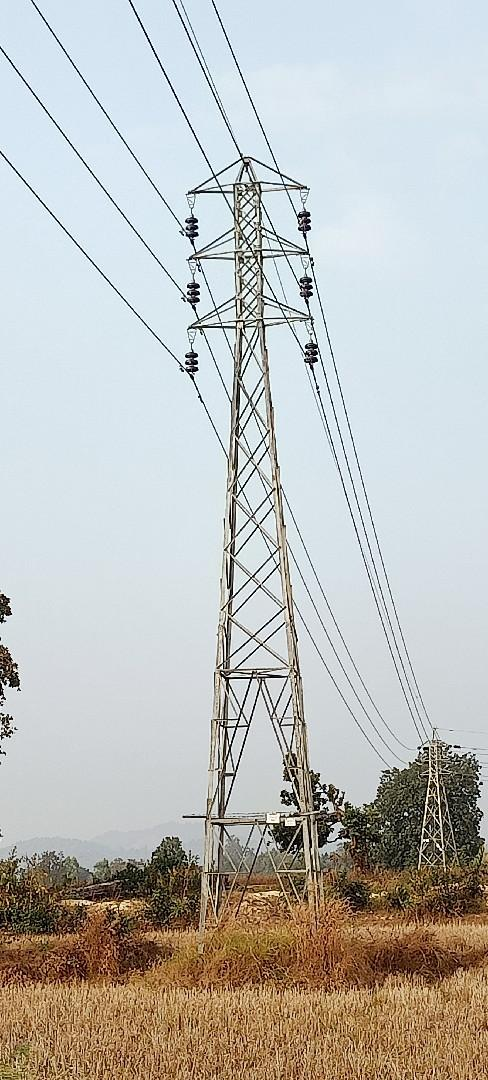GSM Antenna: (178, 153, 325, 895)
